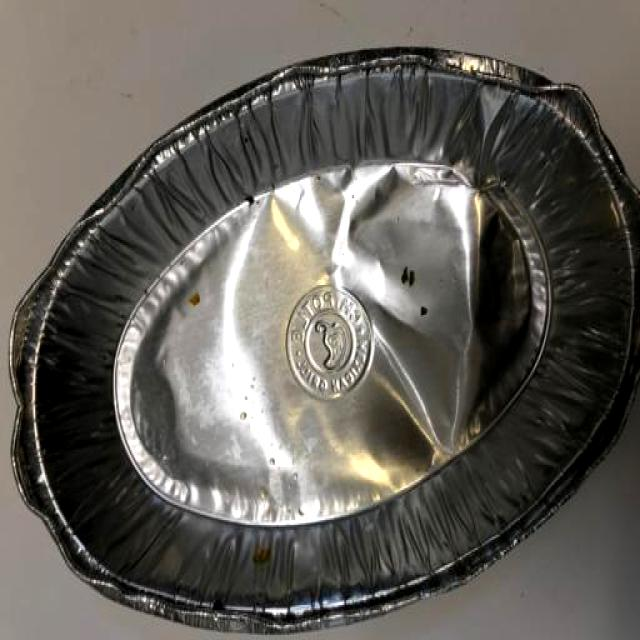Metal: (4, 41, 640, 640)
